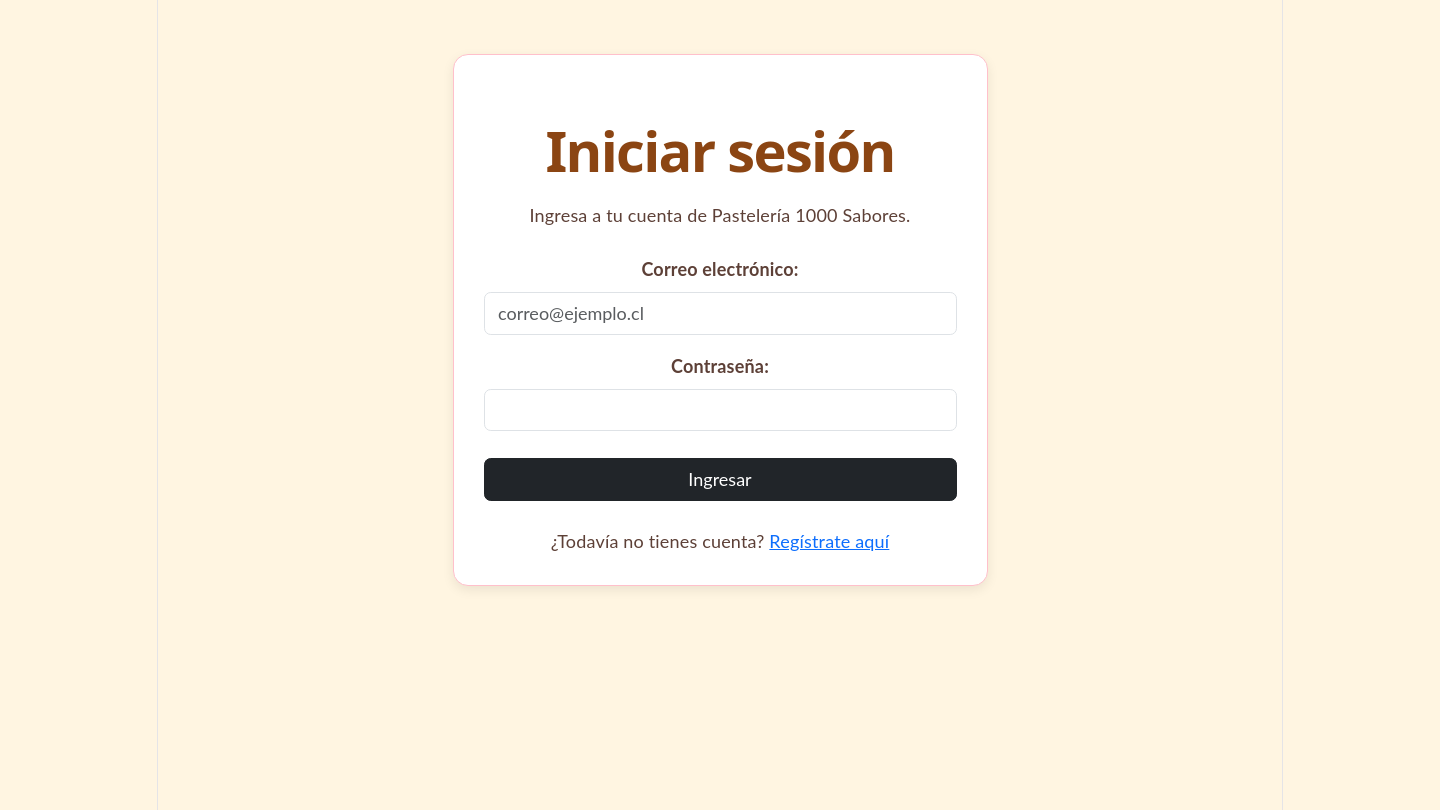
Formulario de inicio de sesión › muestra un error si los campos están vacíos
Click the button "Ingresar" at (720, 479), box [484,458,956,501]
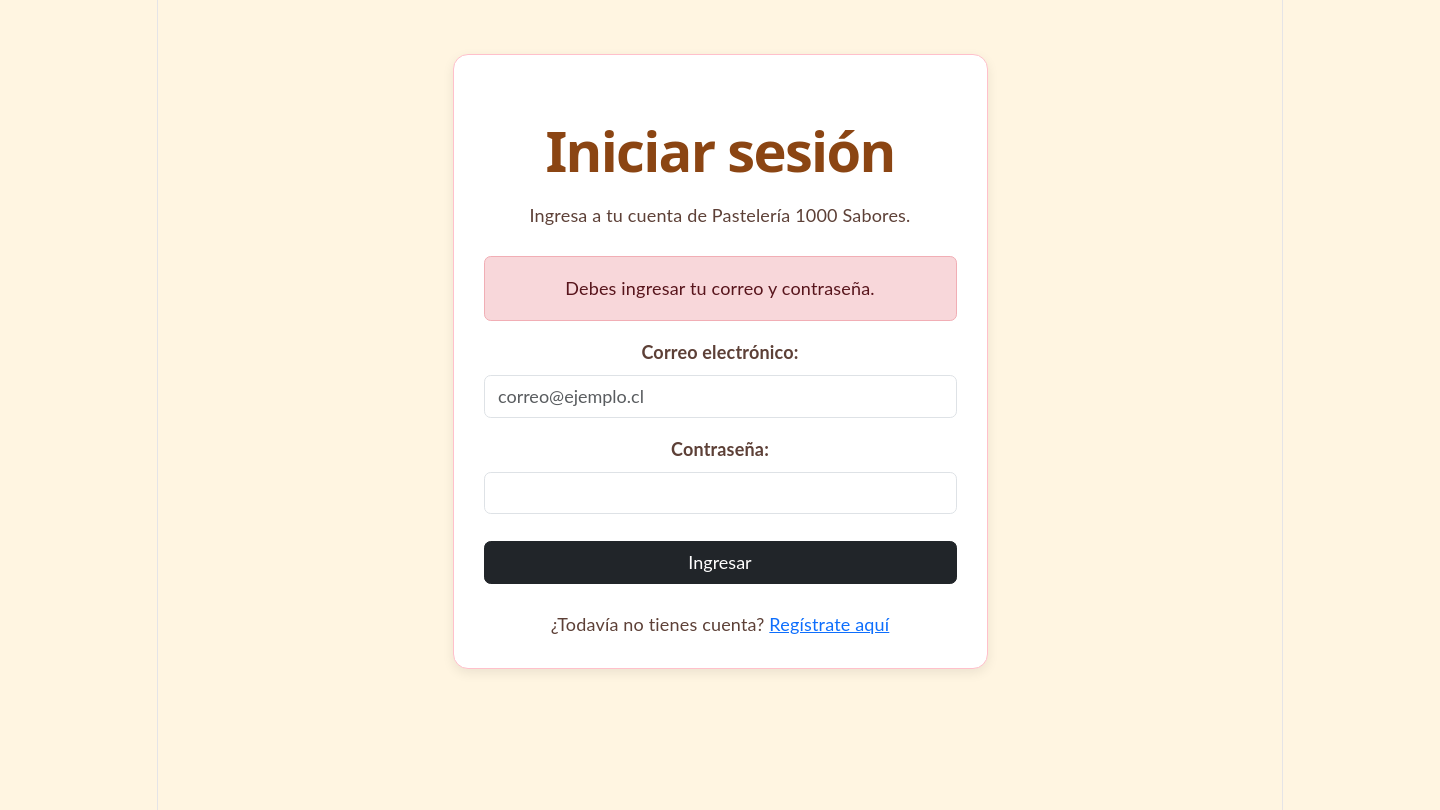
Check: the text "Debes ingresar tu correo y contraseña." is shown, box [484,256,956,321]
